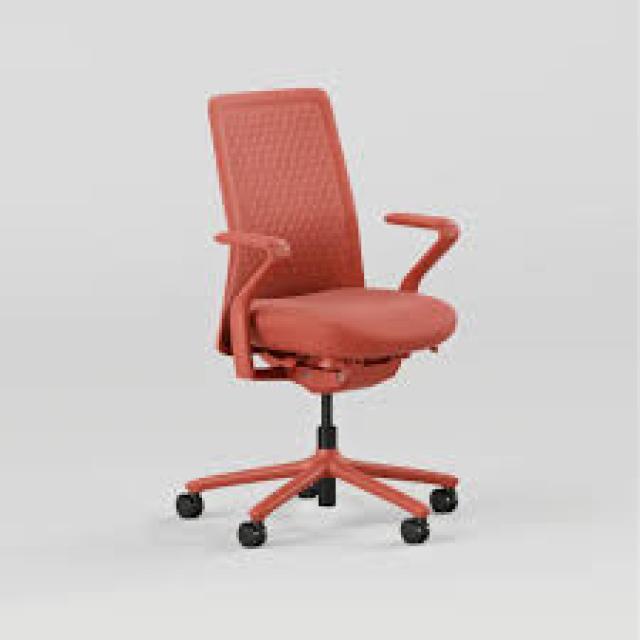chair: (145, 67, 570, 631)
